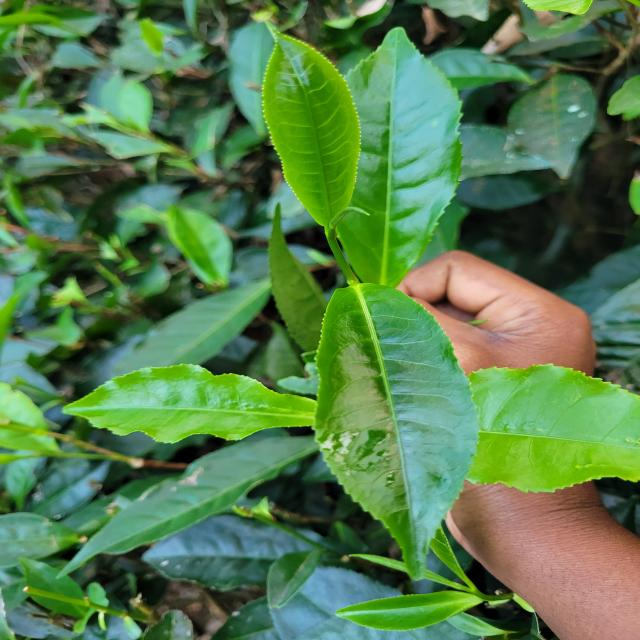Catagory A(1-2 days): (237, 19, 381, 243)
